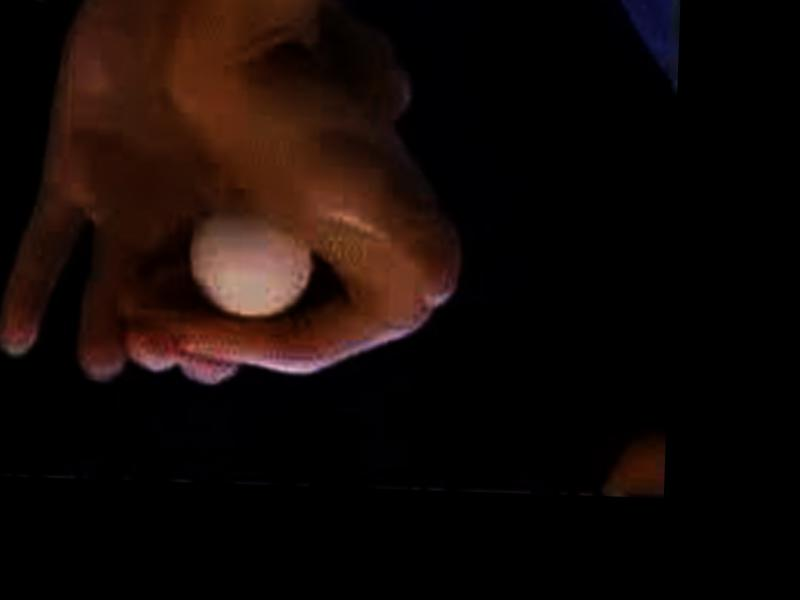Eggs: (185, 220, 317, 322)
